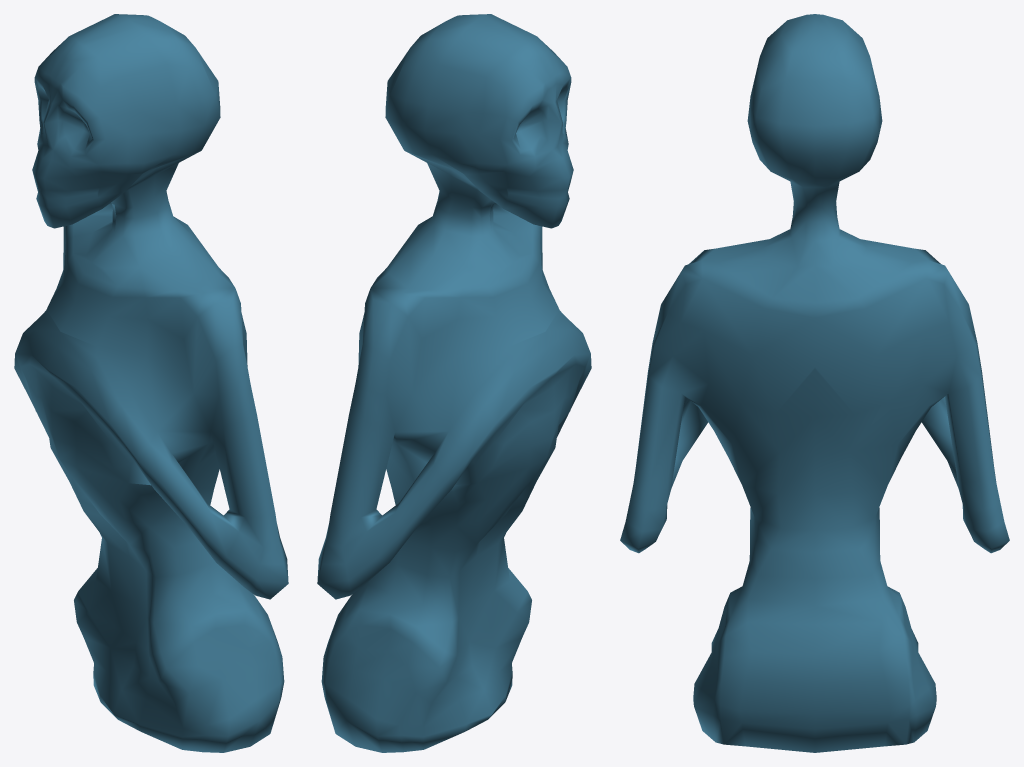
Rendered from Statue_04_Lod0.fbx.
The picture shows the model from 3 angles, left to right: view 1: azimuth 30°, elevation 25°; view 2: azimuth 150°, elevation 25°; view 3: azimuth 270°, elevation 25°; orthographic projection. The views are drawn at different scales.
Visible parts, largest first — view 1: Statue_04_Lod0; view 2: Statue_04_Lod0; view 3: Statue_04_Lod0.
Part boxes in pixels (left/top/right/bottom): Statue_04_Lod0: left=14, top=14, right=288, bottom=752; Statue_04_Lod0: left=317, top=14, right=591, bottom=752; Statue_04_Lod0: left=620, top=14, right=1009, bottom=752.
Size of the model in its own units: 49.83 by 159 by 83.38.
